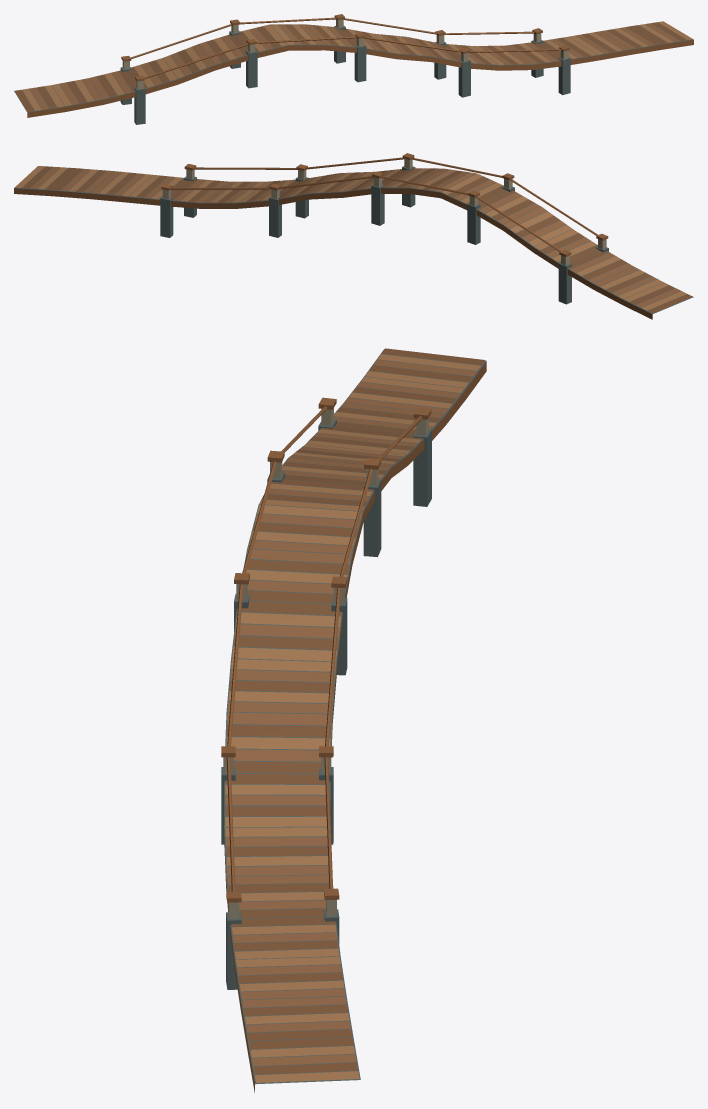
File: 3_orchard_pass_0.glb
3 views of the same model, one above another, from view 1: azimuth 30°, elevation 25°; view 2: azimuth 150°, elevation 25°; view 3: azimuth 270°, elevation 25° (orthographic). The views are drawn at different scales.
Visible parts, largest first — view 1: Detail_8_14, Detail_9_14, Deck_8_14-col, Deck_9_14-col; view 2: Detail_8_14, Detail_9_14, Deck_8_14-col, Deck_9_14-col; view 3: Detail_8_14, Detail_9_14, Deck_8_14-col, Deck_9_14-col.
Part boxes in pixels (box(x1,y1,x2,y2)): Detail_8_14: box(14, 14, 561, 124); Detail_9_14: box(454, 21, 693, 95); Deck_8_14-col: box(14, 24, 498, 112); Deck_9_14-col: box(473, 22, 693, 65); Detail_8_14: box(170, 153, 692, 319); Detail_9_14: box(14, 164, 287, 237); Deck_8_14-col: box(239, 169, 693, 313); Deck_9_14-col: box(14, 166, 266, 203); Detail_8_14: box(221, 348, 486, 891); Detail_9_14: box(224, 795, 359, 1092); Deck_8_14-col: box(224, 349, 486, 828); Deck_9_14-col: box(224, 828, 360, 1084).
Bounding box in the file's own units: 34.45 × 6.12 × 6.24.
